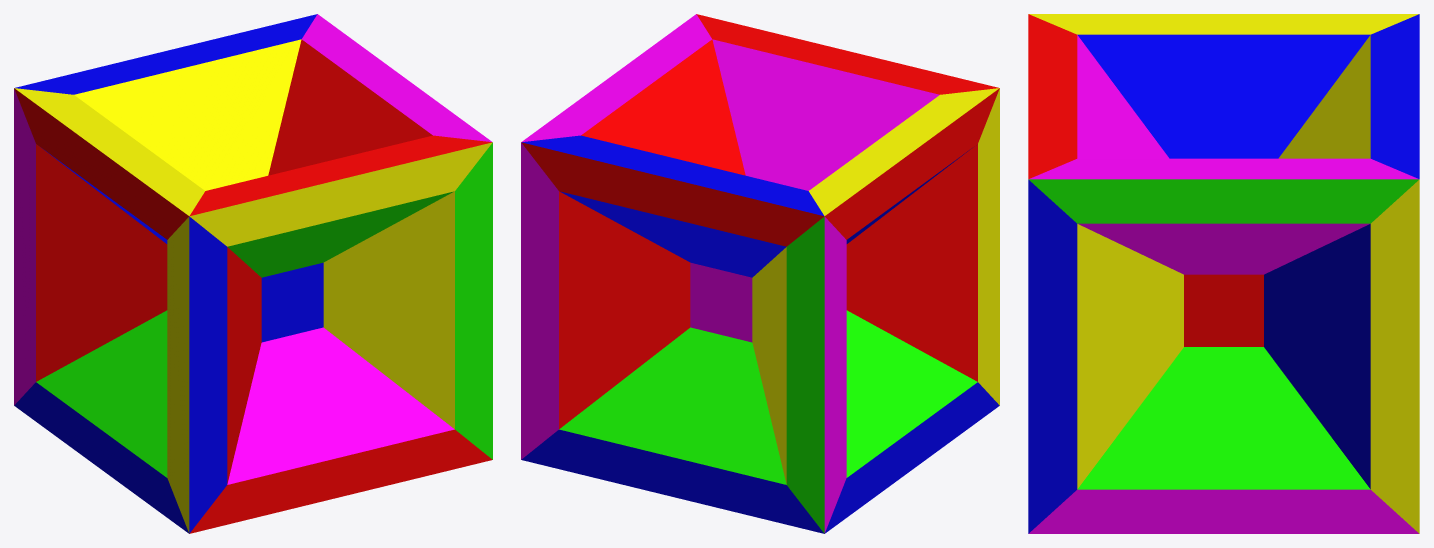
The model's file is Status Light2.fbx.
The picture shows the model from 3 angles, left to right: view 1: azimuth 30°, elevation 25°; view 2: azimuth 150°, elevation 25°; view 3: azimuth 270°, elevation 25°; orthographic projection. The views are drawn at different scales.
Parts seen in each view (by area): view 1: Cube; view 2: Cube; view 3: Cube.
Part boxes in pixels (<box>): Cube: <box>14,14,492,533</box>; Cube: <box>521,14,999,533</box>; Cube: <box>1028,14,1419,533</box>.
Size of the model in its own units: 200 by 200 by 200.
